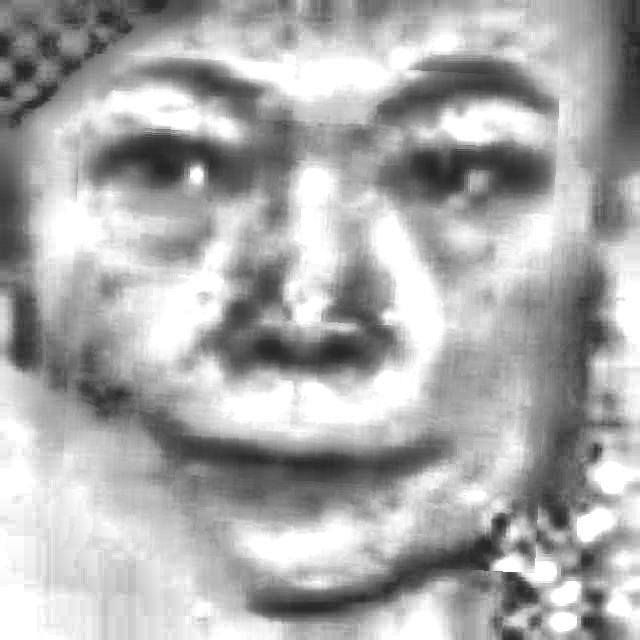angry: (65, 59, 554, 567)
